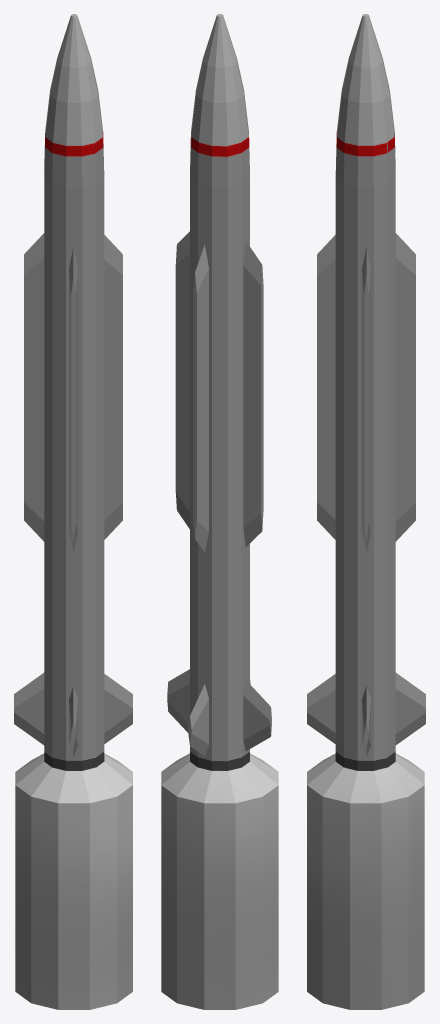
File: standart_missile.fbx
3 renders of one model, left to right at view 1: azimuth 90°, elevation 25°; view 2: azimuth 150°, elevation 25°; view 3: azimuth 270°, elevation 25°, orthographic.
Parts seen in each view (by area): view 1: standart_missile_body, standart_missile_booster; view 2: standart_missile_body, standart_missile_booster; view 3: standart_missile_body, standart_missile_booster.
Part boxes in pixels (x1,y1,x2,y2): standart_missile_body: [14, 14, 132, 770]; standart_missile_booster: [15, 753, 132, 1009]; standart_missile_body: [167, 14, 271, 770]; standart_missile_booster: [161, 753, 278, 1009]; standart_missile_body: [307, 14, 425, 770]; standart_missile_booster: [307, 753, 424, 1009].
Bounding box in the file's own units: 25.08 × 226 × 25.08.
1 material, 1 textured.
